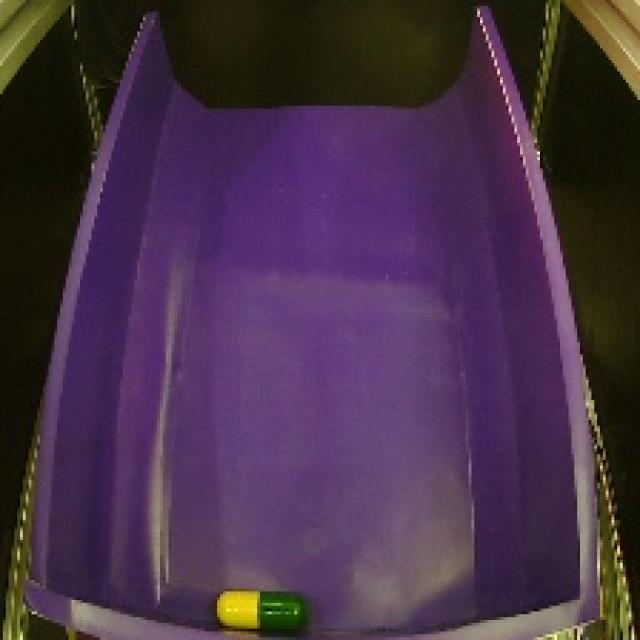small: (212, 577, 308, 640)
